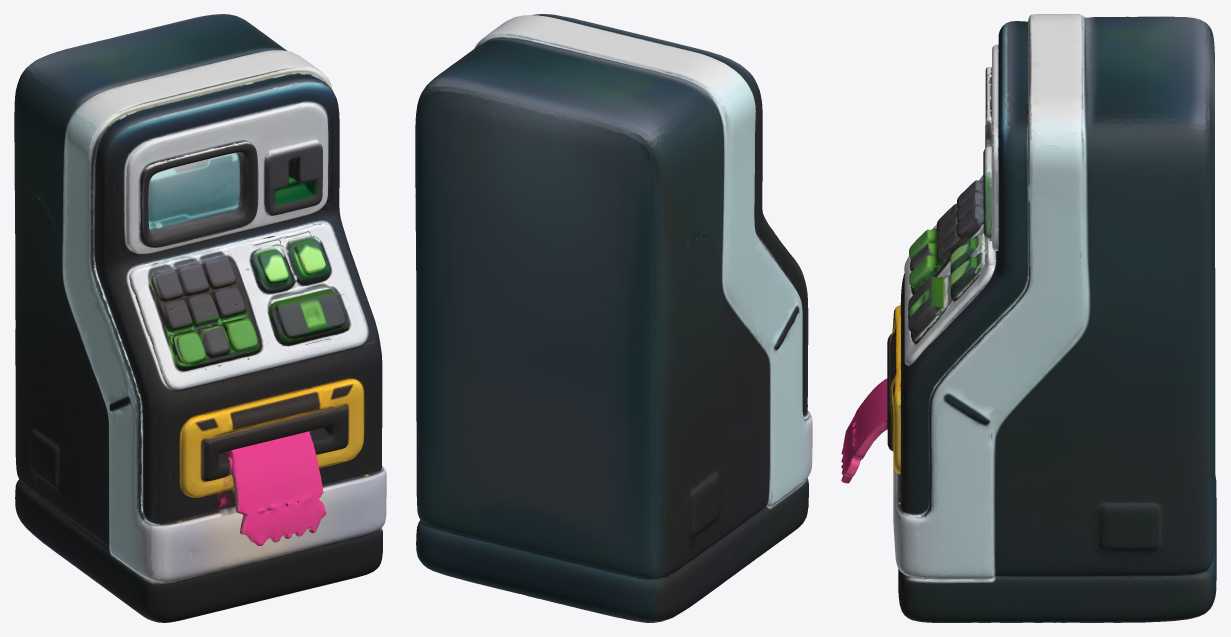
Rendered from u_prp_ticket_machine.glb.
The picture shows the model from 3 angles, left to right: view 1: azimuth 30°, elevation 25°; view 2: azimuth 150°, elevation 25°; view 3: azimuth 270°, elevation 25°; orthographic projection. The views are drawn at different scales.
Visible parts, largest first — view 1: geometry_0; view 2: geometry_0; view 3: geometry_0.
Part boxes in pixels (x1,y1,x2,y2): geometry_0: [14, 14, 386, 622]; geometry_0: [415, 14, 812, 622]; geometry_0: [841, 14, 1216, 622].
Size of the model in its own units: 0.1201 by 0.22 by 0.1474.
Materials: 1 (1 with a texture image).
